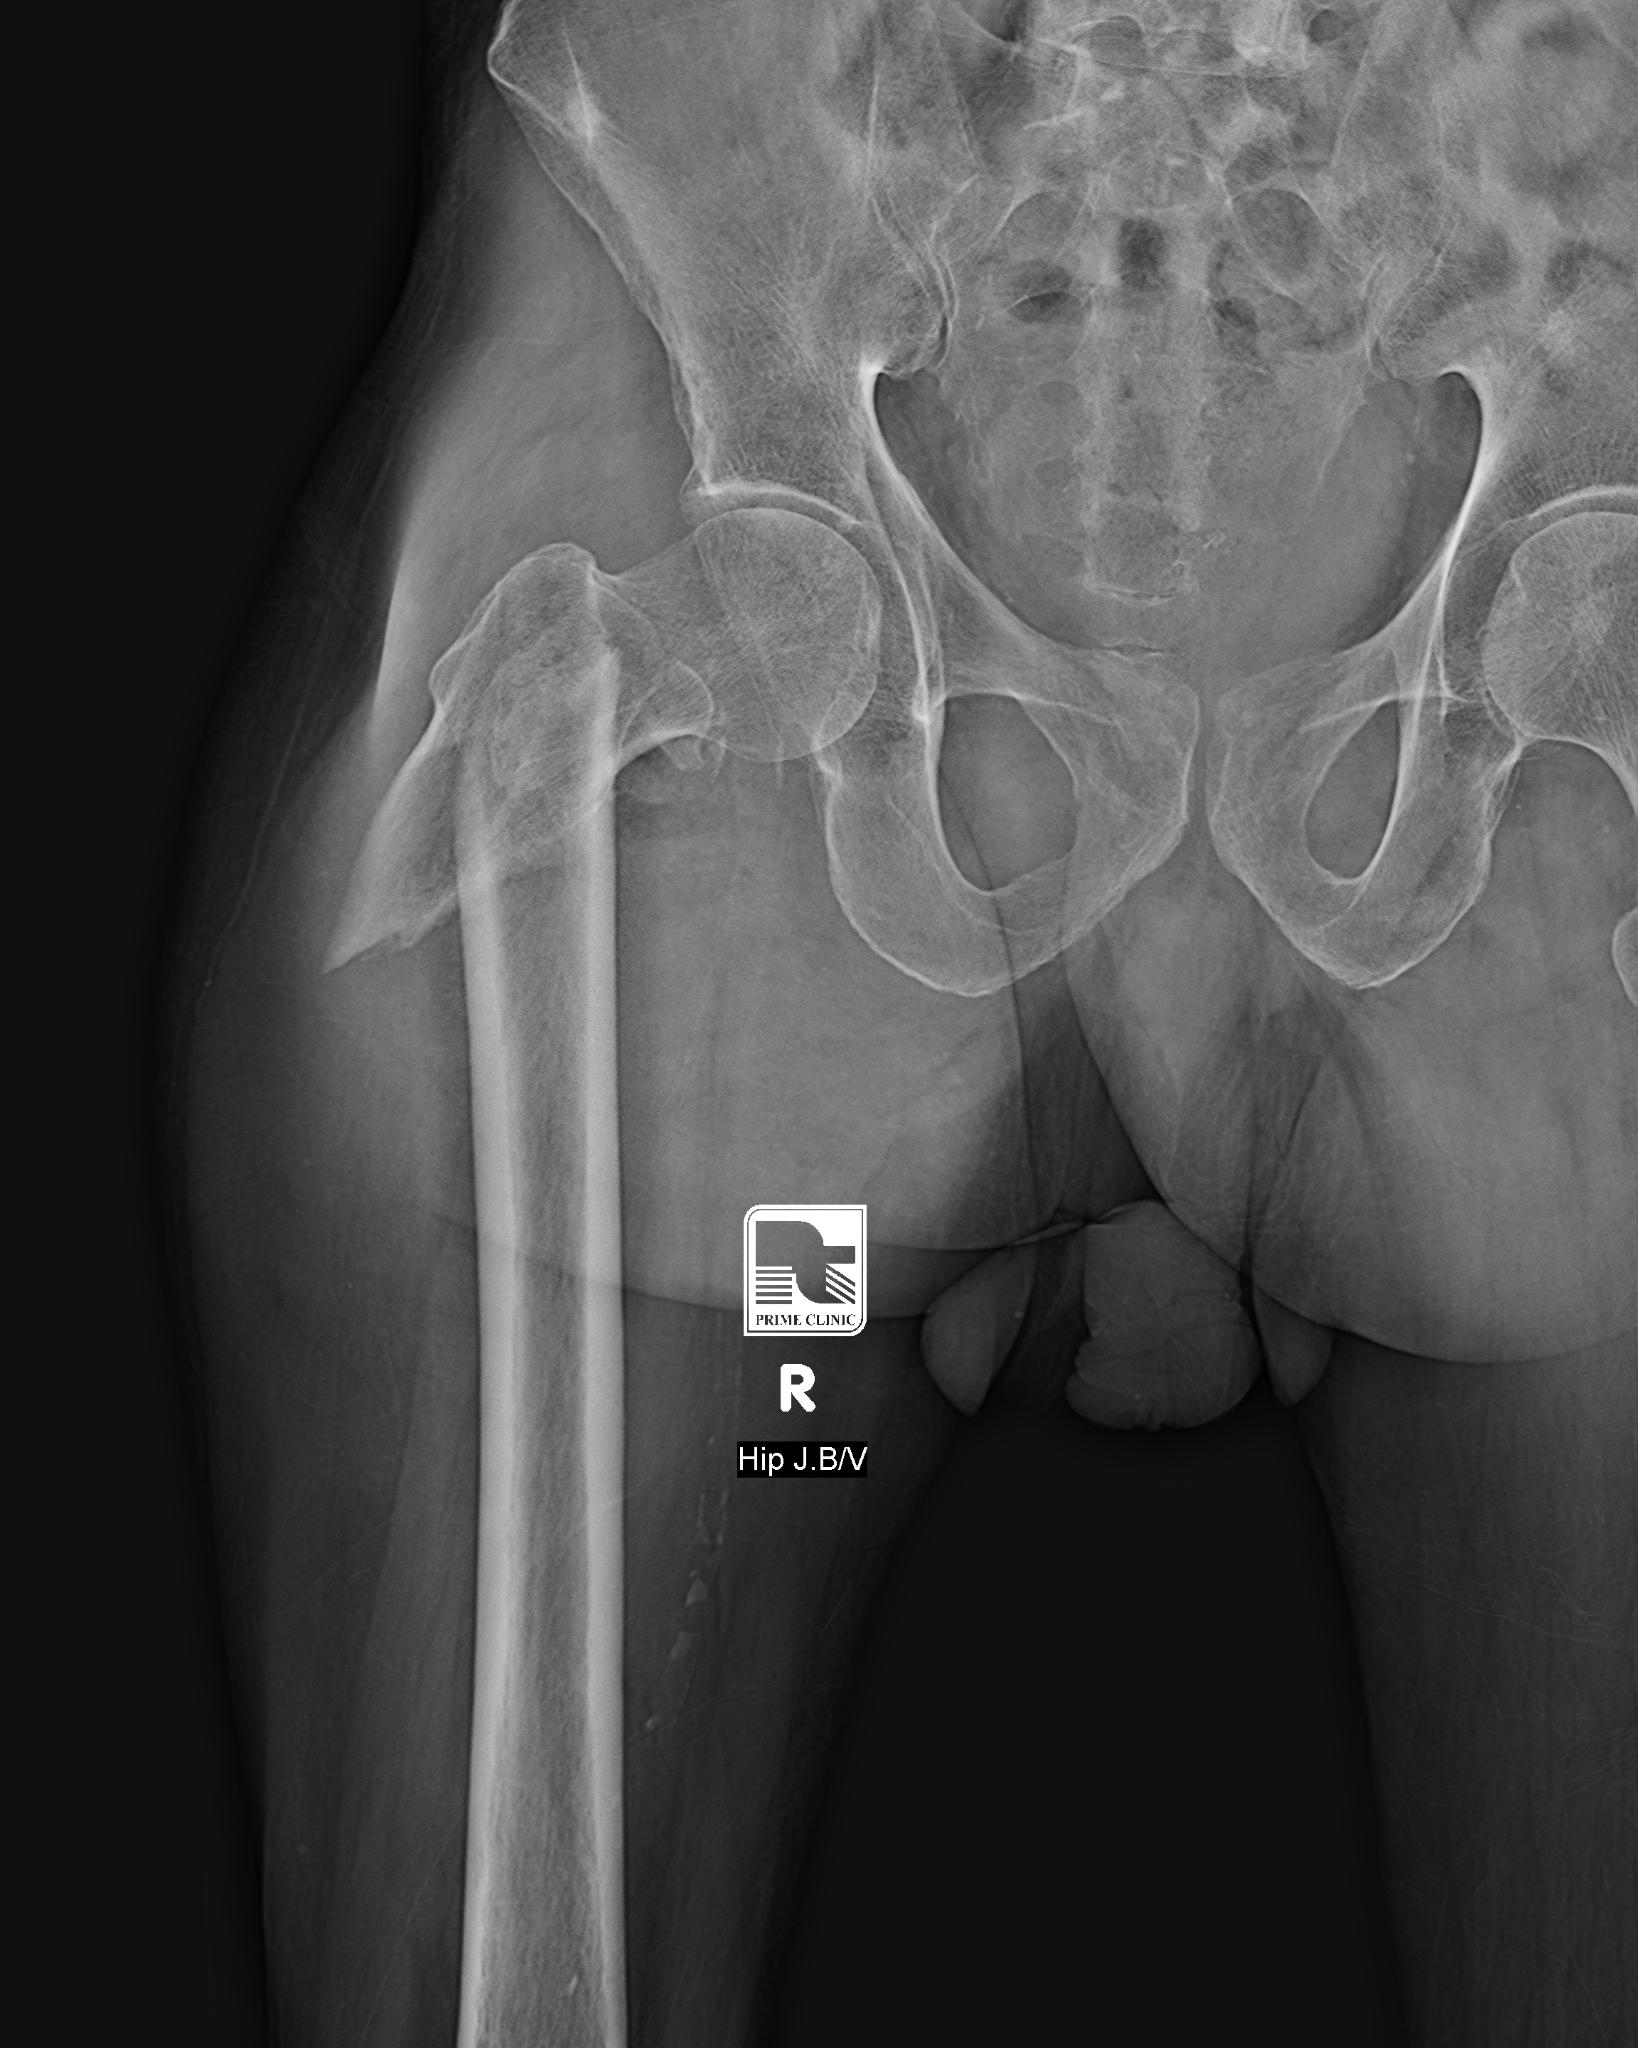fractured: (311, 597, 623, 985)
